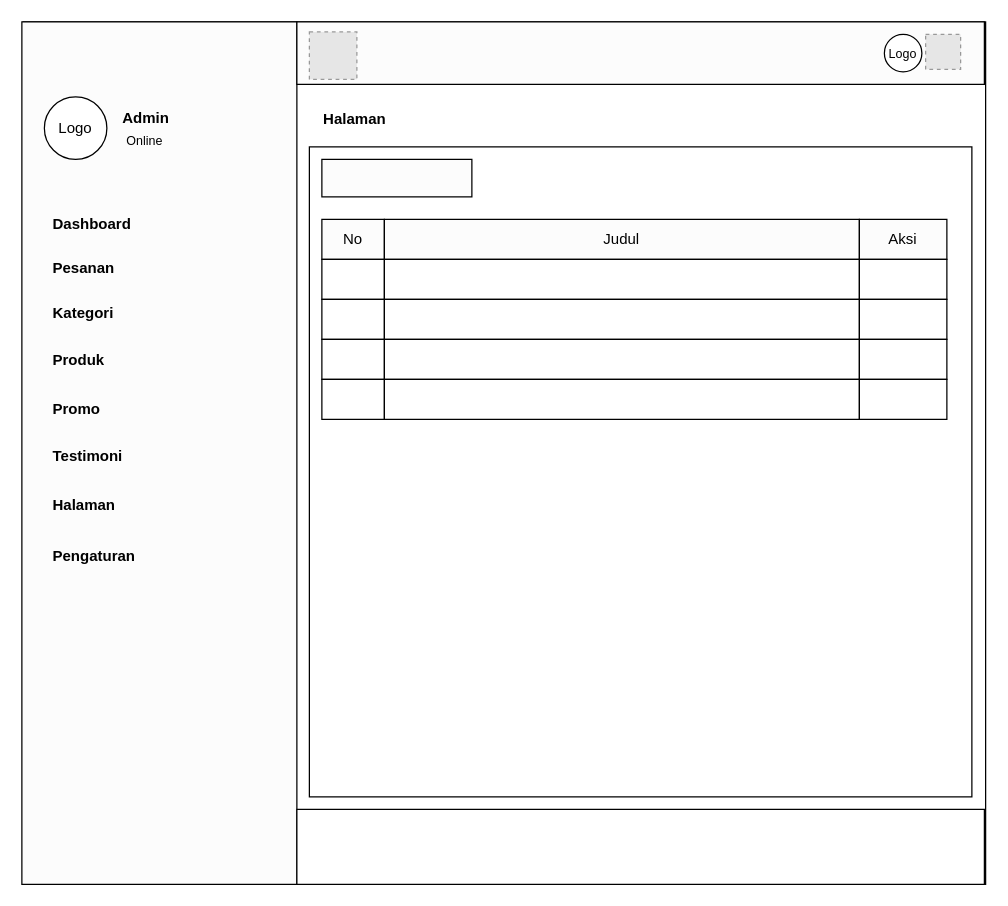
The diagram is 1008 pixels wide and 906 high, and some of its shapes have lost their labels. Grey dashed boxes stand in for pictures. The centre of each missing label's shape, as x and y in pixels:
FOOTER: the point at 640,846
Tambah: the point at 396,177
